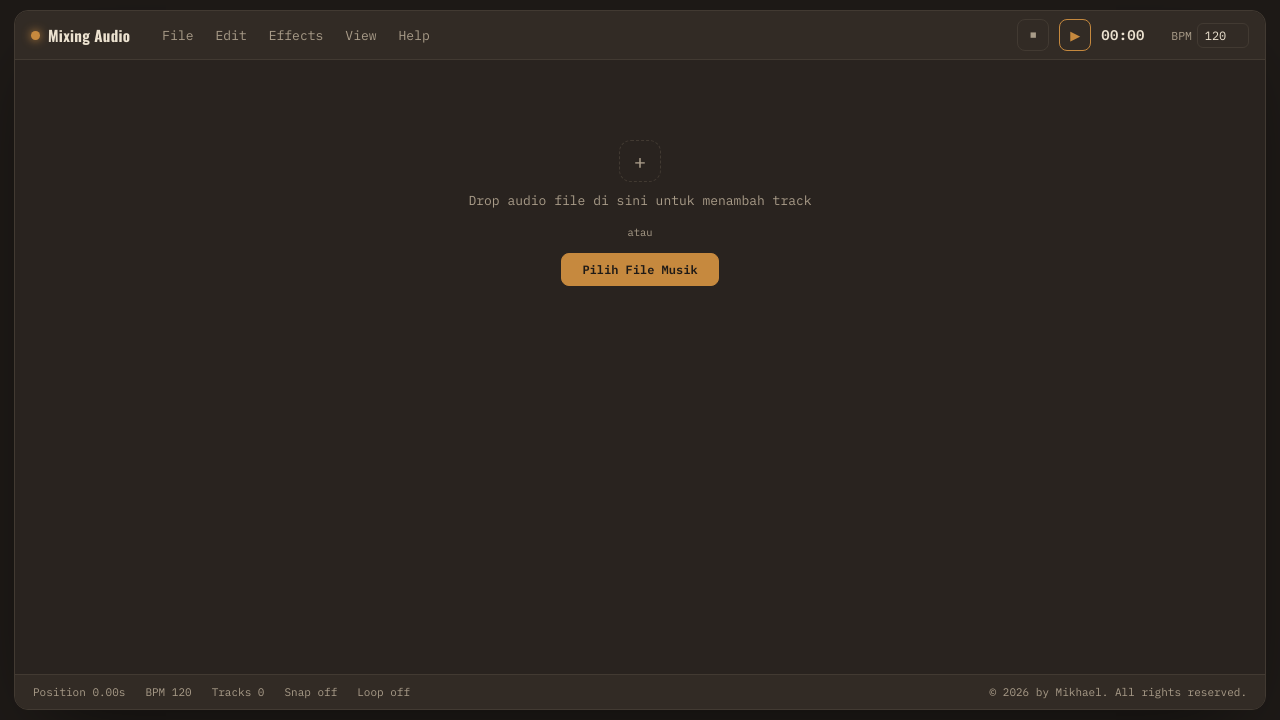
it: Mixing Audio — UI & Functional › Effects modal closes on Cancel
Click the text "Effects" at point(296, 35), box [269, 26, 323, 44]
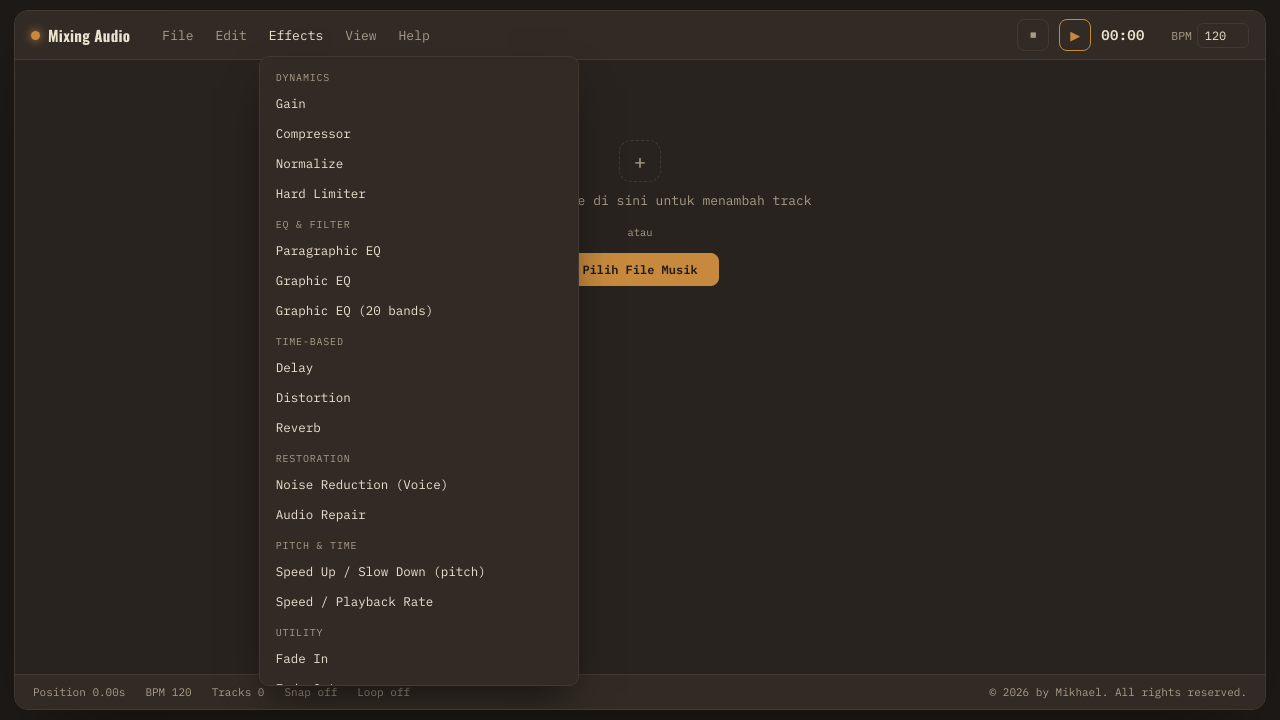
Click the text "Reverb" at point(298, 426), box [276, 418, 321, 434]
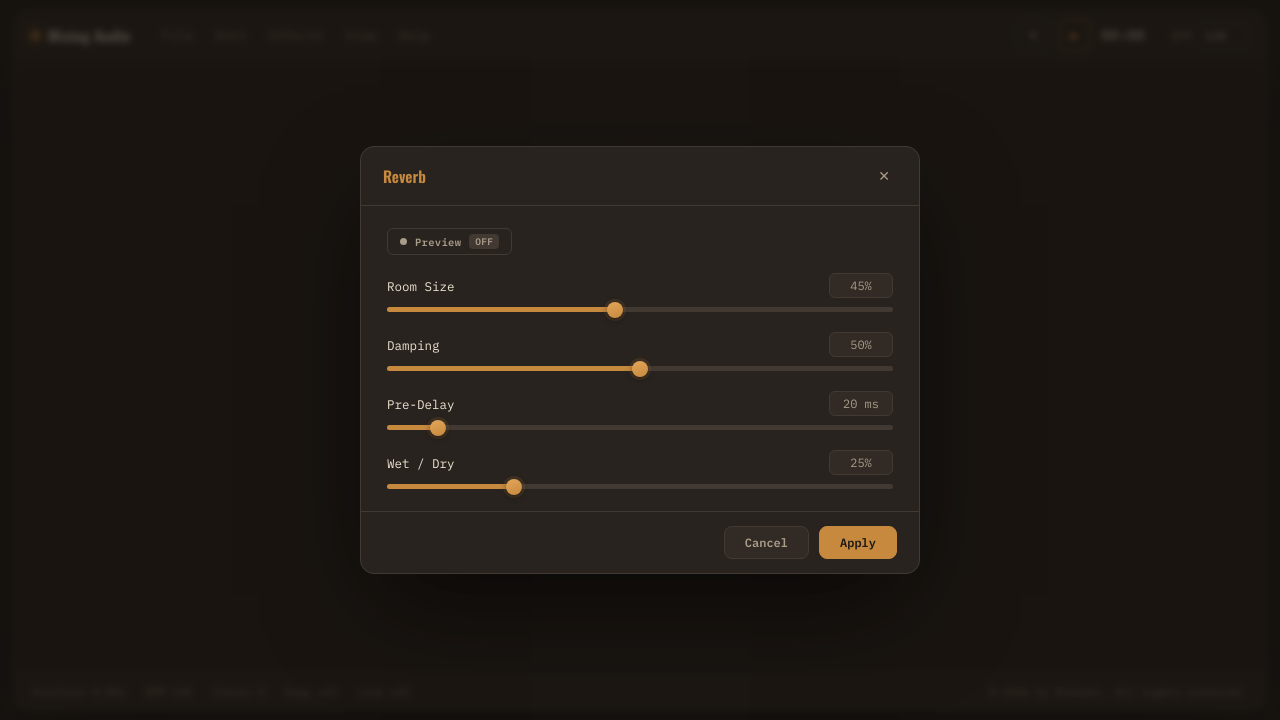
Check: the text "Room Size" is shown, box [387, 278, 454, 294]
Click the button "Cancel" at point(766, 542), box [724, 526, 809, 559]
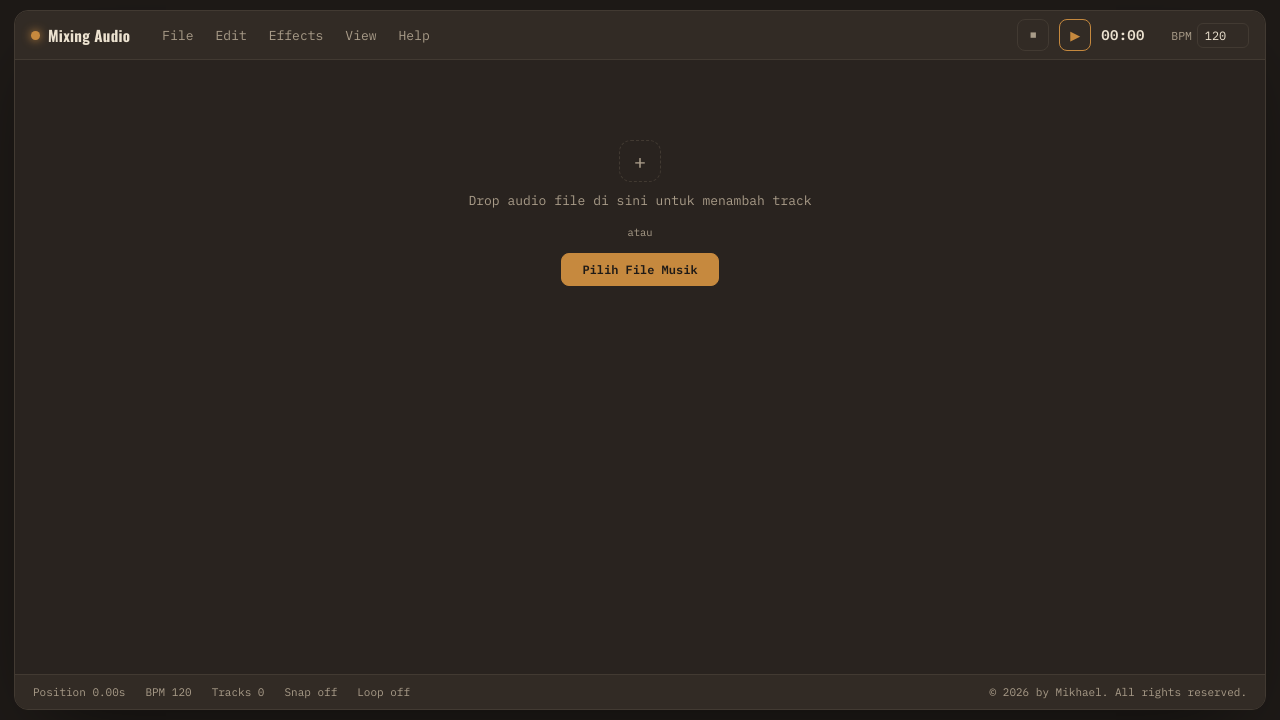
Check: the text "Room Size" is gone
